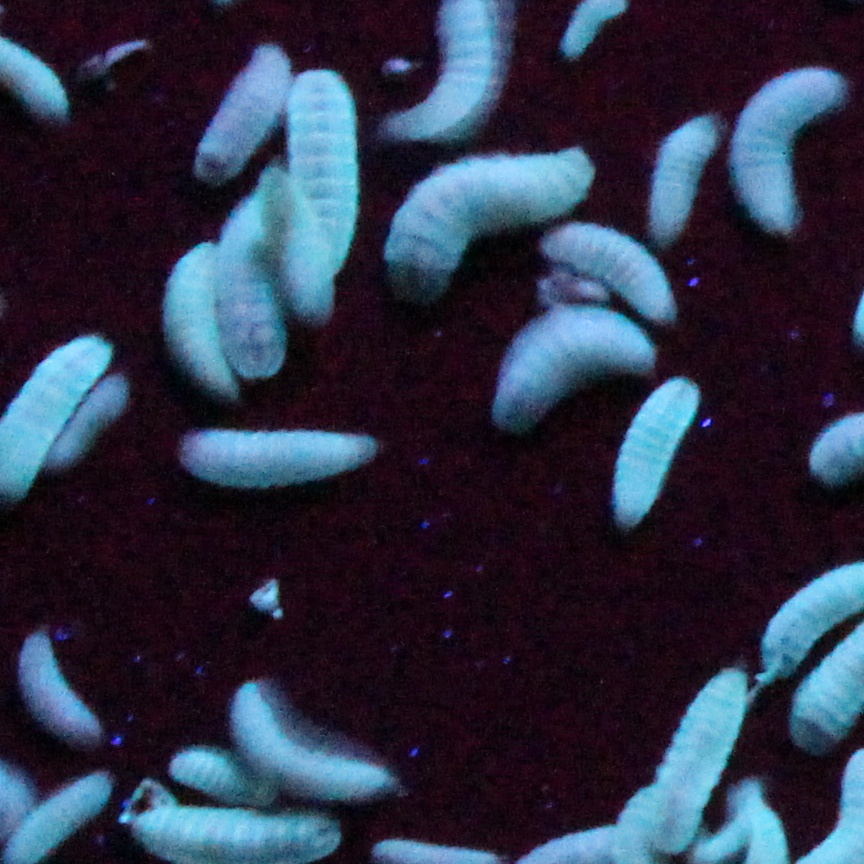larve: (394, 144, 594, 299), (727, 64, 838, 239), (490, 310, 661, 419), (232, 684, 390, 797), (285, 70, 361, 288), (656, 661, 741, 855), (610, 378, 696, 545), (161, 239, 234, 397), (198, 46, 285, 177), (12, 628, 105, 744), (183, 432, 383, 485), (547, 232, 670, 312), (648, 109, 713, 246)
